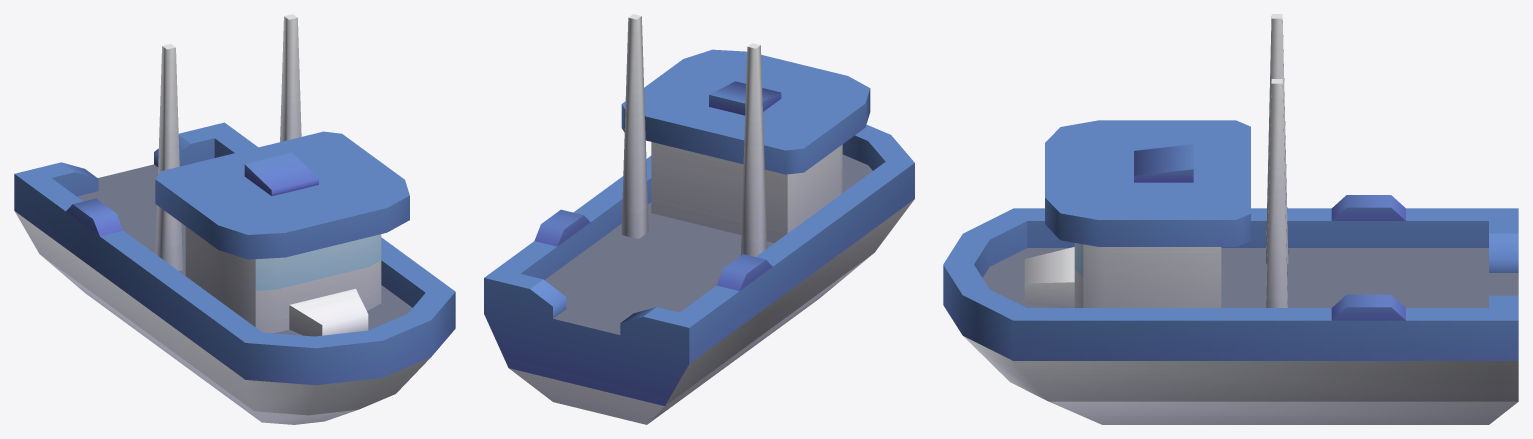
Rendered from fishing_boat.glb.
3 renders of one model, left to right at view 1: azimuth 30°, elevation 25°; view 2: azimuth 150°, elevation 25°; view 3: azimuth 270°, elevation 25°, orthographic. The views are drawn at different scales.
Visible parts, largest first — view 1: boat-fishing-small; view 2: boat-fishing-small; view 3: boat-fishing-small.
Part boxes in pixels (box(x1,y1,x2,y2)): boat-fishing-small: box(14, 14, 455, 424); boat-fishing-small: box(484, 14, 914, 424); boat-fishing-small: box(943, 14, 1518, 424).
Bounding box in the file's own units: 1.78 × 2.6 × 3.87.
1 material, 1 textured.
